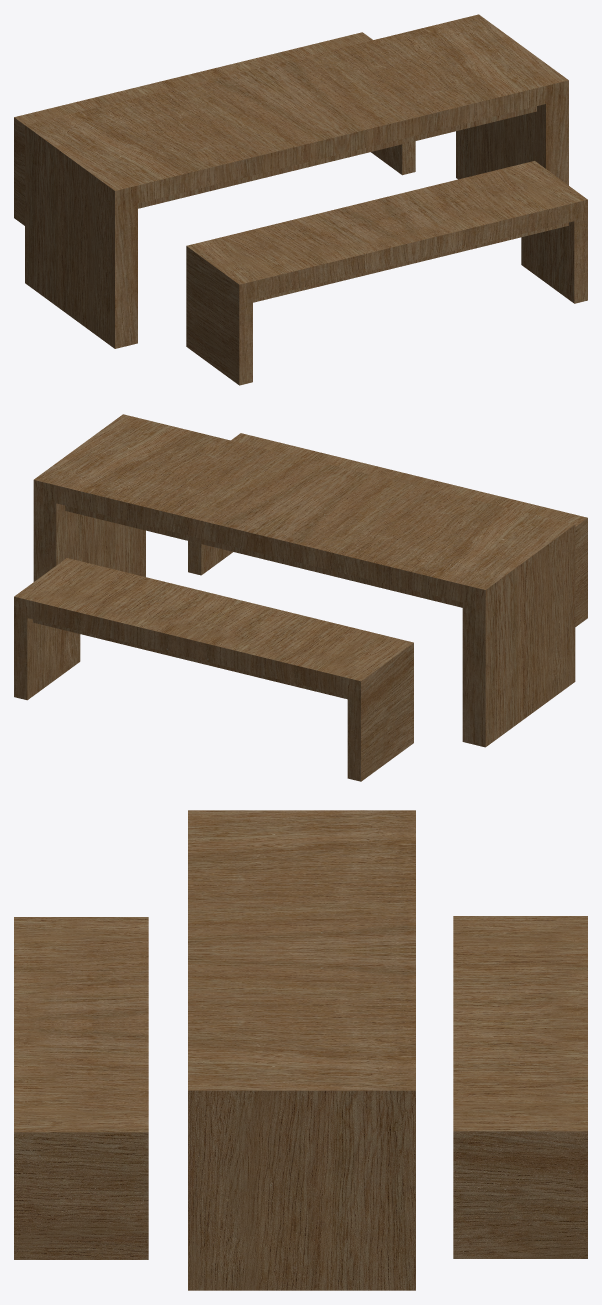
Rendered from wooden_bench.fbx.
3 renders of one model, top to bottom at view 1: azimuth 30°, elevation 25°; view 2: azimuth 150°, elevation 25°; view 3: azimuth 270°, elevation 25°, orthographic. The views are drawn at different scales.
Visible parts, largest first — view 1: Cube, Cube.003, Cube.001; view 2: Cube, Cube.001, Cube.003; view 3: Cube, Cube.001, Cube.003.
Part boxes in pixels (left/top/right/bottom): Cube: left=25, top=14, right=568, bottom=348; Cube.003: left=186, top=161, right=587, bottom=385; Cube.001: left=14, top=32, right=415, bottom=225; Cube: left=33, top=414, right=575, bottom=747; Cube.001: left=14, top=558, right=413, bottom=781; Cube.003: left=188, top=433, right=587, bottom=626; Cube: left=188, top=810, right=415, bottom=1290; Cube.001: left=453, top=916, right=587, bottom=1258; Cube.003: left=14, top=917, right=148, bottom=1259.
Bounding box in the file's own units: 708 × 236 × 612.
